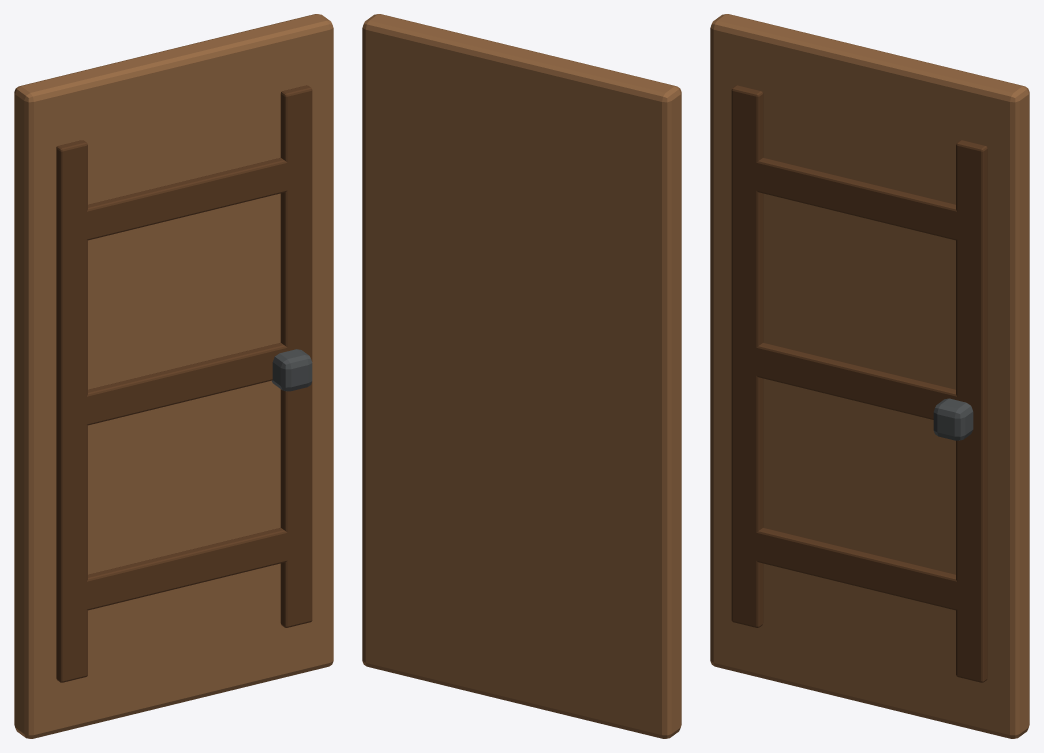
File: door_leaf_1p1x2p2.glb
3 views of the same model, side by side, from view 1: azimuth 30°, elevation 25°; view 2: azimuth 150°, elevation 25°; view 3: azimuth 330°, elevation 25° (orthographic).
Visible parts, largest first — view 1: door_leaf, door_panel_stile_-0.40, door_panel_stile_0.40, door_panel_rail_0.47, door_panel_rail_1.73, door_panel_rail_1.10, door_handle; view 2: door_leaf; view 3: door_leaf, door_panel_stile_0.40, door_panel_stile_-0.40, door_panel_rail_1.73, door_panel_rail_0.47, door_panel_rail_1.10, door_handle.
Part boxes in pixels (left/top/right/bottom): door_leaf: left=14, top=14, right=333, bottom=738; door_panel_stile_-0.40: left=56, top=140, right=87, bottom=682; door_panel_stile_0.40: left=280, top=85, right=312, bottom=627; door_panel_rail_0.47: left=68, top=527, right=305, bottom=613; door_panel_rail_1.73: left=68, top=157, right=305, bottom=243; door_panel_rail_1.10: left=68, top=342, right=297, bottom=428; door_handle: left=272, top=349, right=312, bottom=391; door_leaf: left=362, top=14, right=681, bottom=738; door_leaf: left=710, top=14, right=1029, bottom=738; door_panel_stile_0.40: left=956, top=140, right=987, bottom=682; door_panel_stile_-0.40: left=731, top=85, right=763, bottom=627; door_panel_rail_1.73: left=738, top=157, right=975, bottom=243; door_panel_rail_0.47: left=738, top=527, right=974, bottom=613; door_panel_rail_1.10: left=738, top=342, right=974, bottom=425; door_handle: left=933, top=398, right=973, bottom=440.
Size of the model in its own units: 1.1 by 2.2 by 0.205.
